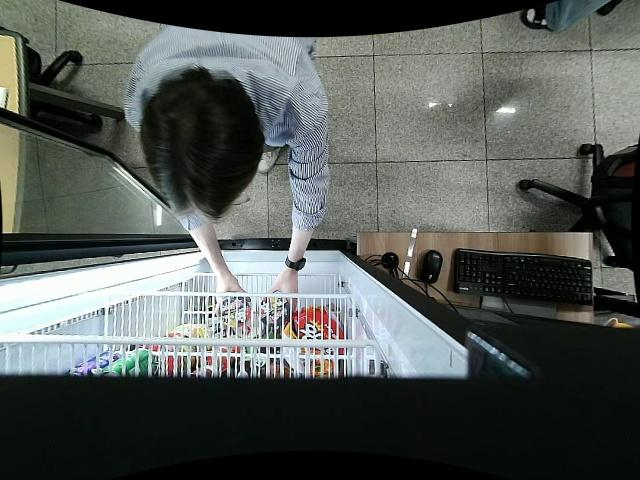00_hand: (257, 272, 300, 315), (213, 276, 252, 303)
08_buldak_S: (216, 290, 251, 325), (260, 292, 290, 327)
